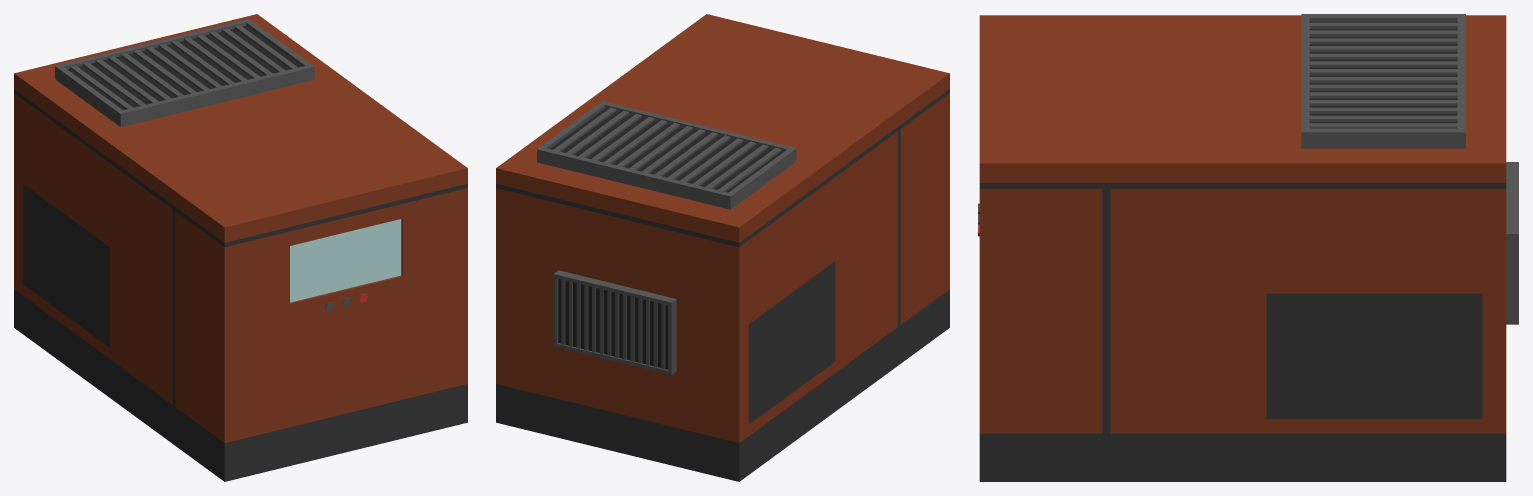
The model's file is Generator_01.fbx.
The picture shows the model from 3 angles, left to right: view 1: azimuth 30°, elevation 25°; view 2: azimuth 150°, elevation 25°; view 3: azimuth 270°, elevation 25°; orthographic projection. The views are drawn at different scales.
Visible parts, largest first — view 1: Generator_01; view 2: Generator_01; view 3: Generator_01.
Boxes of the visible parts, x1,y1,x2,y2 form: Generator_01: (14, 14, 467, 481); Generator_01: (496, 14, 949, 481); Generator_01: (978, 14, 1518, 481).
Size of the model in its own units: 127 by 133 by 195.
